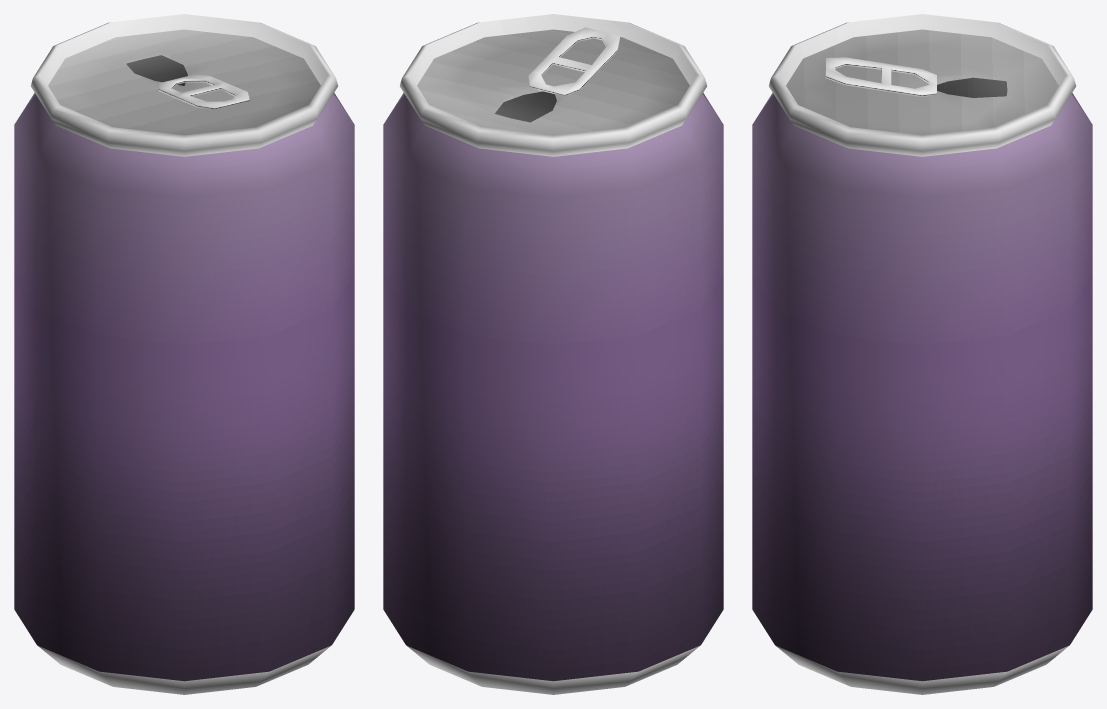
Rendered from SM_Can_red.fbx.
The picture shows the model from 3 angles, left to right: view 1: azimuth 30°, elevation 25°; view 2: azimuth 150°, elevation 25°; view 3: azimuth 270°, elevation 25°; orthographic projection.
Parts seen in each view (by area): view 1: Can_purple; view 2: Can_purple; view 3: Can_purple.
Boxes of the visible parts, x1=… form: Can_purple: x1=14, y1=14, x2=354, y2=694; Can_purple: x1=383, y1=14, x2=723, y2=694; Can_purple: x1=752, y1=14, x2=1092, y2=694.
Bounding box in the file's own units: 14.04 × 25.84 × 14.04.
